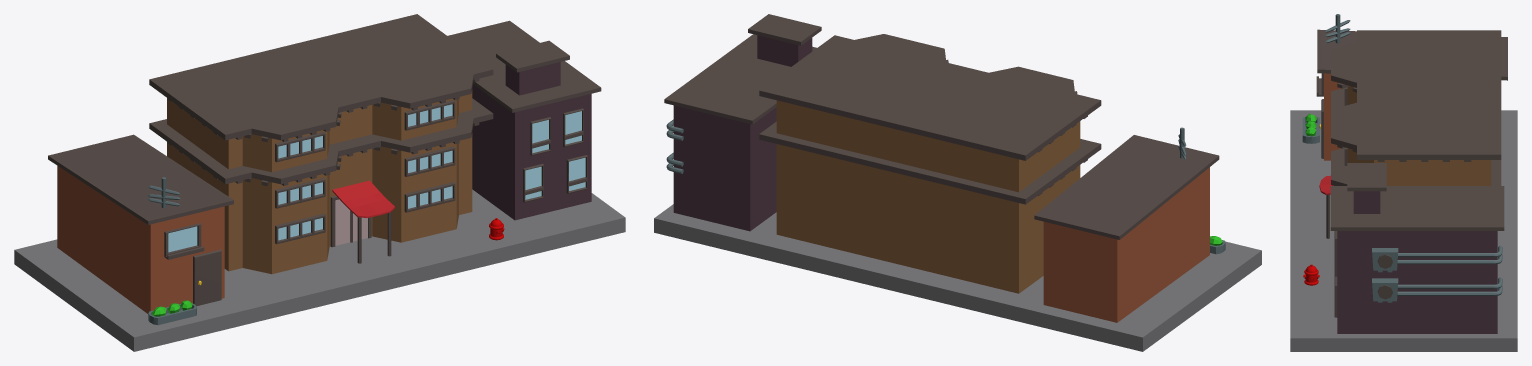
File: Block_3.fbx
3 views of the same model, side by side, from view 1: azimuth 30°, elevation 25°; view 2: azimuth 150°, elevation 25°; view 3: azimuth 270°, elevation 25° (orthographic). The views are drawn at different scales.
Parts seen in each view (by area): view 1: polySurface171, polySurface169, polySurface107, polySurface203, polySurface149, polySurface150, polySurface159, polySurface144, polySurface164, polySurface140, polySurface153, polySurface143 (+9 smaller); view 2: polySurface171, polySurface107, polySurface203, polySurface169, polySurface149, polySurface150; view 3: polySurface171, polySurface149, polySurface169, polySurface203, polySurface150, polySurface107, polySurface160, polySurface166, polySurface167, polySurface161, polySurface152, polySurface155 (+3 smaller).
Boxes of the visible parts, x1=… form: polySurface171: x1=149, y1=14, x2=493, y2=172; polySurface169: x1=14, y1=189, x2=625, y2=351; polySurface107: x1=149, y1=98, x2=493, y2=274; polySurface203: x1=48, y1=134, x2=233, y2=313; polySurface149: x1=448, y1=20, x2=601, y2=220; polySurface150: x1=496, y1=40, x2=569, y2=95; polySurface159: x1=193, y1=249, x2=221, y2=306; polySurface144: x1=332, y1=180, x2=394, y2=217; polySurface164: x1=330, y1=195, x2=371, y2=247; polySurface140: x1=164, y1=223, x2=204, y2=259; polySurface153: x1=404, y1=182, x2=455, y2=212; polySurface143: x1=404, y1=146, x2=455, y2=176; polySurface171: x1=759, y1=34, x2=1101, y2=192; polySurface107: x1=759, y1=121, x2=1101, y2=293; polySurface203: x1=1034, y1=135, x2=1219, y2=322; polySurface169: x1=654, y1=204, x2=1261, y2=351; polySurface149: x1=664, y1=34, x2=816, y2=231; polySurface150: x1=748, y1=14, x2=821, y2=66; polySurface171: x1=1331, y1=30, x2=1501, y2=185; polySurface149: x1=1330, y1=186, x2=1504, y2=333; polySurface169: x1=1290, y1=110, x2=1517, y2=351; polySurface203: x1=1317, y1=29, x2=1507, y2=160; polySurface150: x1=1347, y1=163, x2=1386, y2=213; polySurface107: x1=1331, y1=88, x2=1501, y2=185; polySurface160: x1=1398, y1=245, x2=1502, y2=257; polySurface166: x1=1398, y1=277, x2=1502, y2=288; polySurface167: x1=1397, y1=285, x2=1502, y2=295; polySurface161: x1=1397, y1=254, x2=1502, y2=264; polySurface152: x1=1372, y1=278, x2=1398, y2=302; polySurface155: x1=1372, y1=248, x2=1398, y2=272.
Size of the model in its own units: 713 by 221 by 299.
